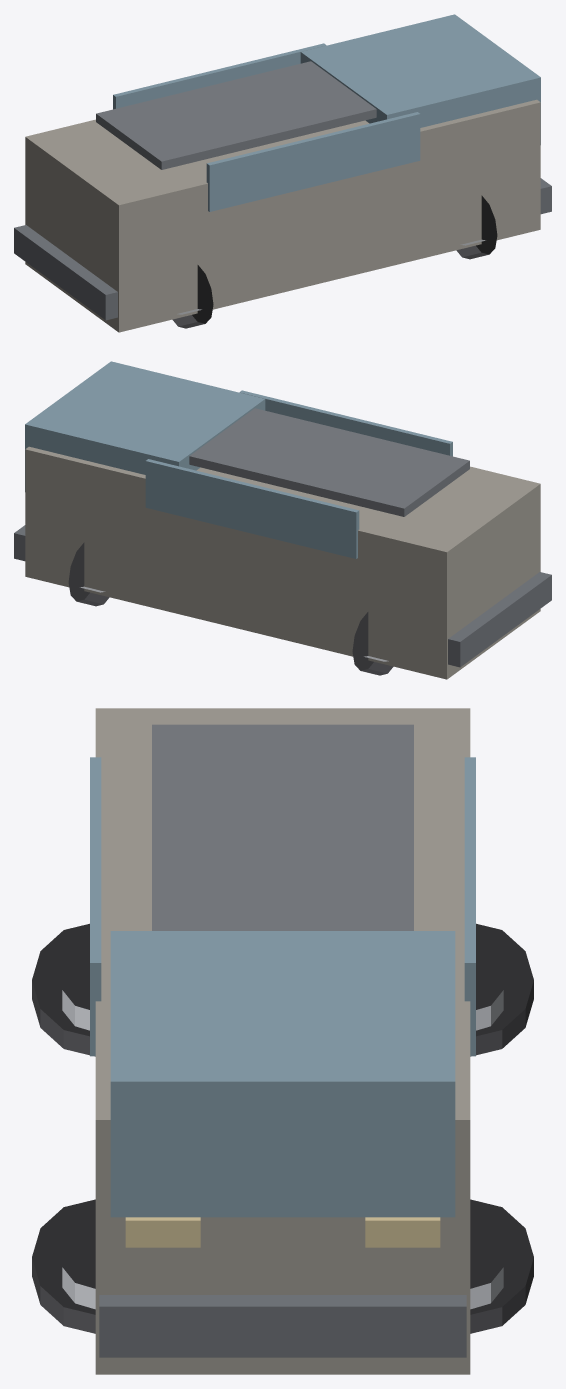
The model's file is car_van.glb.
3 views of the same model, one above another, from view 1: azimuth 30°, elevation 25°; view 2: azimuth 150°, elevation 25°; view 3: azimuth 270°, elevation 25° (orthographic). The views are drawn at different scales.
Parts seen in each view (by area): view 1: Car_van_body, Car_van_rack, Car_van_windshield, Car_van_glassL, Car_van_bumperR, Car_van_glassR, Car_van_wheelRL_tire, Car_van_wheelFL_tire; view 2: Car_van_body, Car_van_rack, Car_van_windshield, Car_van_glassR, Car_van_bumperR, Car_van_glassL, Car_van_wheelRR_tire, Car_van_wheelFR_tire; view 3: Car_van_windshield, Car_van_body, Car_van_rack, Car_van_bumperF, Car_van_wheelFL_tire, Car_van_wheelFR_tire, Car_van_wheelRL_tire, Car_van_wheelRR_tire, Car_van_glassL, Car_van_glassR, Car_van_lightL, Car_van_lightR.
Boxes of the visible parts, x1,y1,x2,y2 form: Car_van_body: (25,99,540,332); Car_van_rack: (96,61,376,169); Car_van_windshield: (300,14,540,144); Car_van_glassL: (206,112,420,211); Car_van_bumperR: (14,225,117,320); Car_van_glassR: (113,43,326,109); Car_van_wheelRL_tire: (172,265,213,328); Car_van_wheelFL_tire: (456,195,497,259); Car_van_body: (25,446,540,679); Car_van_rack: (189,408,469,516); Car_van_windshield: (25,361,265,491); Car_van_glassR: (145,459,359,558); Car_van_bumperR: (448,572,551,667); Car_van_glassL: (239,390,452,456); Car_van_wheelRR_tire: (352,612,393,675); Car_van_wheelFR_tire: (68,542,109,606); Car_van_windshield: (110,931,455,1217); Car_van_body: (95,708,470,1374); Car_van_rack: (152,724,413,930); Car_van_bumperF: (99,1295,466,1357); Car_van_wheelFL_tire: (32,1199,95,1333); Car_van_wheelFR_tire: (470,1199,533,1333); Car_van_wheelRL_tire: (32,923,95,1056); Car_van_wheelRR_tire: (470,923,533,1056); Car_van_glassL: (90,757,101,1056); Car_van_glassR: (464,757,475,1056); Car_van_lightL: (125,1217,200,1247); Car_van_lightR: (365,1217,440,1247).
Size of the model in its own units: 5.5 by 1.85 by 2.68.
